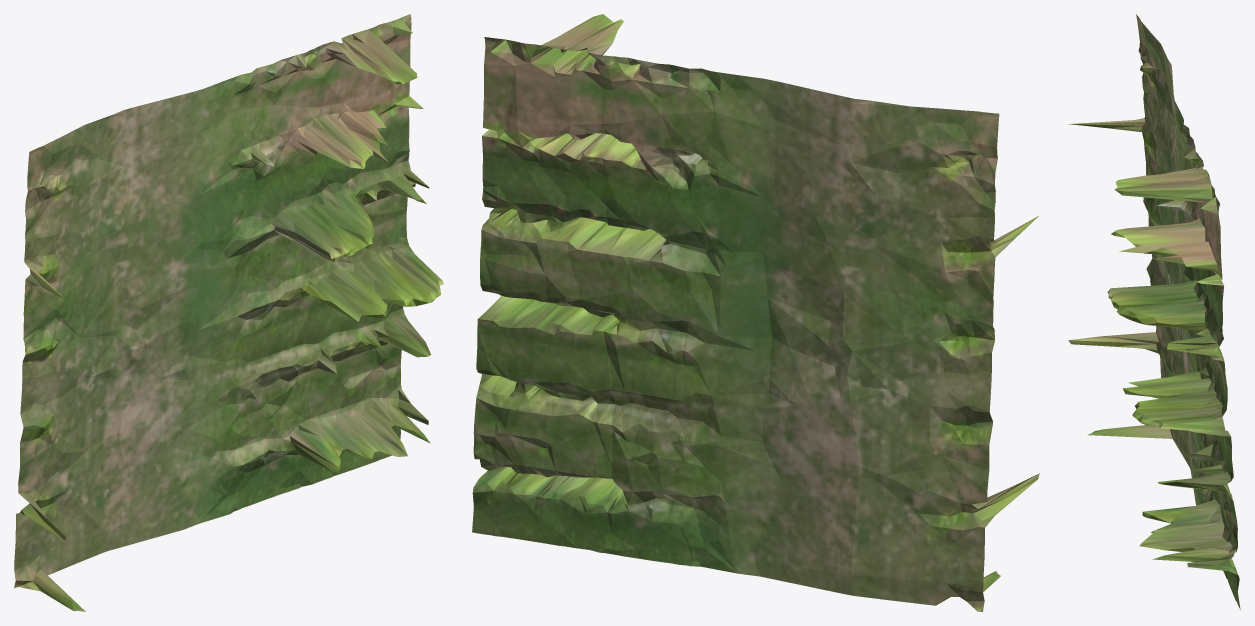
Rendered from map_150_10.obj.
3 views of the same model, side by side, from view 1: azimuth 30°, elevation 25°; view 2: azimuth 150°, elevation 25°; view 3: azimuth 270°, elevation 25° (orthographic). The views are drawn at different scales.
Visible parts, largest first — view 1: grp1; view 2: grp1; view 3: grp1.
Boxes of the visible parts, x1,y1,x2,y2 form: grp1: (14,14,443,611); grp1: (472,14,1039,611); grp1: (1068,14,1240,609).
Size of the model in its own units: 10 by 10 by 3.84.
Materials: 1 (1 with a texture image).
